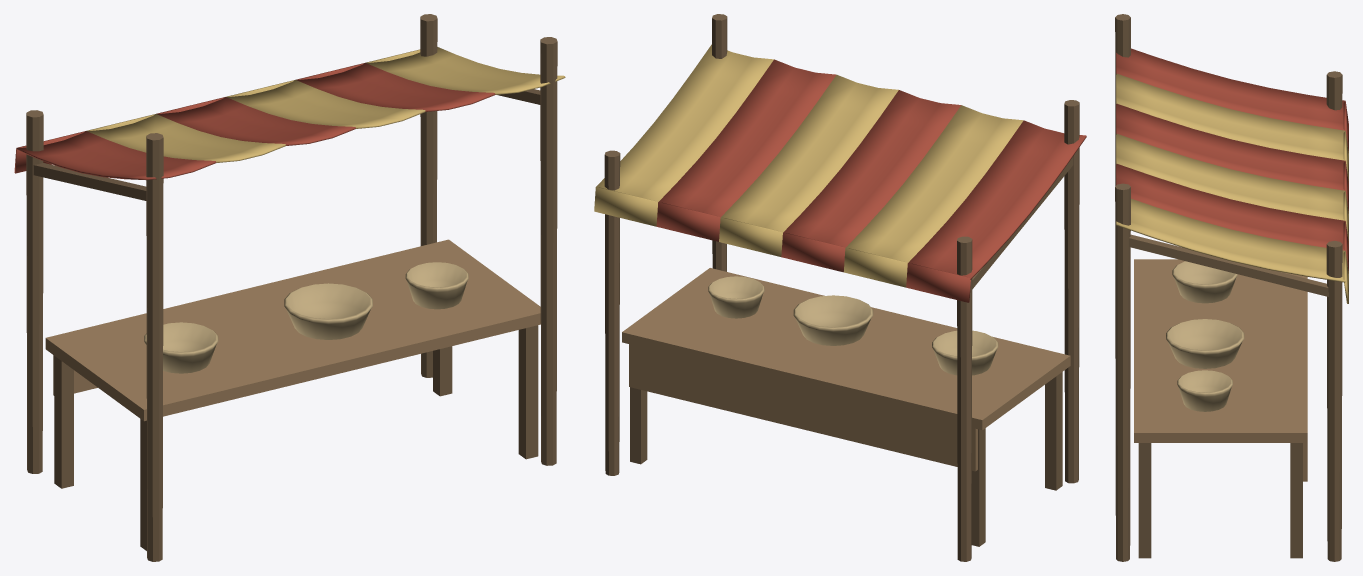
Rendered from stall.glb.
3 renders of one model, left to right at view 1: azimuth 30°, elevation 25°; view 2: azimuth 150°, elevation 25°; view 3: azimuth 270°, elevation 25°, orthographic. The views are drawn at different scales.
Parts seen in each view (by area): view 1: stall_counter, stall_frame, baskets, awning_0, awning_2, awning_4, awning_3, awning_5, awning_1; view 2: stall_counter, stall_frame, awning_1, awning_2, awning_3, awning_4, awning_0, awning_5, baskets; view 3: stall_counter, stall_frame, awning_3, awning_1, awning_2, baskets, awning_4, awning_0, awning_5.
Boxes of the visible parts, x1=… form: stall_counter: x1=45, y1=239, x2=540, y2=421; stall_frame: x1=26, y1=14, x2=557, y2=561; baskets: x1=144, y1=262, x2=468, y2=373; awning_0: x1=14, y1=131, x2=215, y2=180; awning_2: x1=156, y1=97, x2=355, y2=145; awning_4: x1=296, y1=63, x2=495, y2=111; awning_3: x1=226, y1=80, x2=425, y2=128; awning_5: x1=365, y1=47, x2=565, y2=94; awning_1: x1=86, y1=114, x2=286, y2=162; stall_counter: x1=622, y1=268, x2=1070, y2=471; stall_frame: x1=604, y1=14, x2=1079, y2=561; awning_1: x1=844, y1=105, x2=1023, y2=287; awning_2: x1=781, y1=90, x2=960, y2=272; awning_3: x1=719, y1=74, x2=898, y2=256; awning_4: x1=656, y1=59, x2=835, y2=241; awning_0: x1=906, y1=120, x2=1086, y2=302; awning_5: x1=594, y1=44, x2=773, y2=226; baskets: x1=708, y1=276, x2=998, y2=375; stall_counter: x1=1134, y1=259, x2=1307, y2=481; stall_frame: x1=1115, y1=14, x2=1342, y2=561; awning_3: x1=1116, y1=134, x2=1348, y2=243; awning_1: x1=1116, y1=73, x2=1348, y2=182; awning_2: x1=1116, y1=103, x2=1348, y2=213; baskets: x1=1166, y1=261, x2=1244, y2=411; awning_4: x1=1116, y1=164, x2=1348, y2=273; awning_0: x1=1116, y1=48, x2=1348, y2=152; awning_5: x1=1116, y1=198, x2=1348, y2=303.
Bounding box in the file's own units: 2.7 × 2.6 × 1.48.
